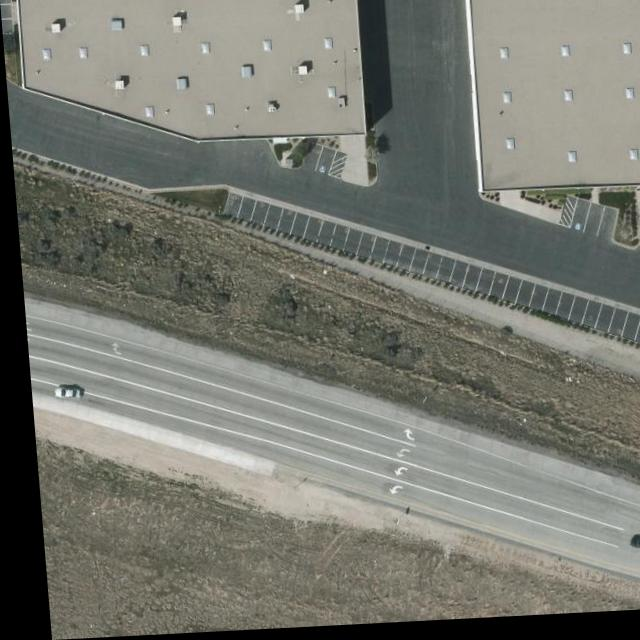vehicle: (48, 385, 76, 403), (617, 540, 640, 560)
